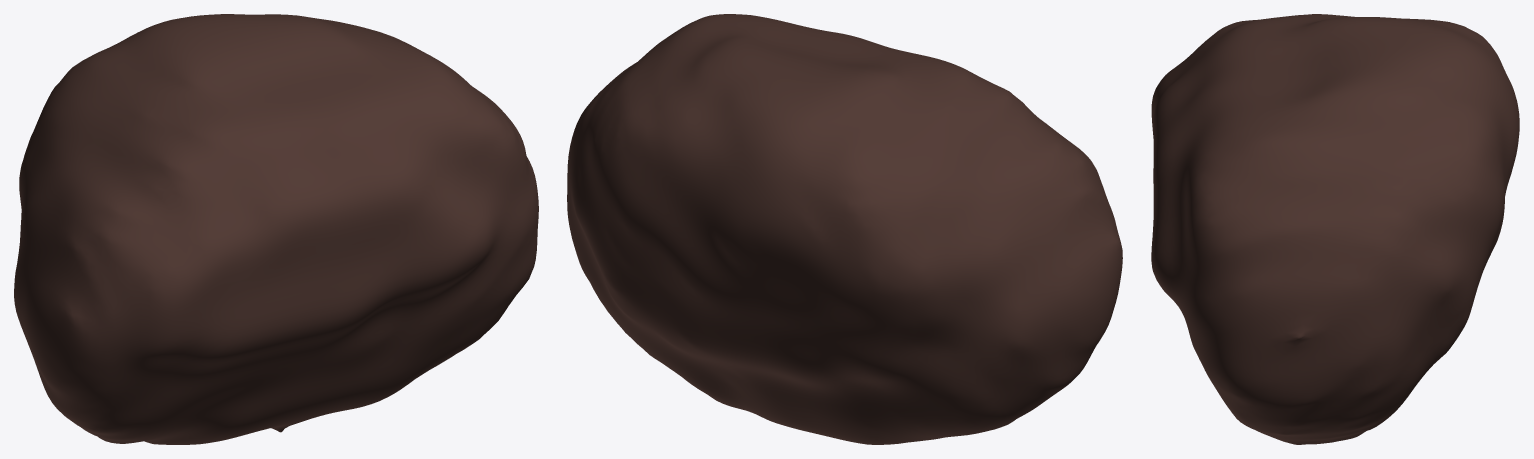
File: prostate.obj
The picture shows the model from 3 angles, left to right: view 1: azimuth 30°, elevation 25°; view 2: azimuth 150°, elevation 25°; view 3: azimuth 270°, elevation 25°; orthographic projection. The views are drawn at different scales.
Parts seen in each view (by area): view 1: grp1; view 2: grp1; view 3: grp1.
Part boxes in pixels (bbox=[...]): grp1: bbox=[14, 14, 538, 444]; grp1: bbox=[567, 14, 1122, 444]; grp1: bbox=[1151, 14, 1519, 444].
Bounding box in the file's own units: 46.23 × 33.04 × 30.37.
